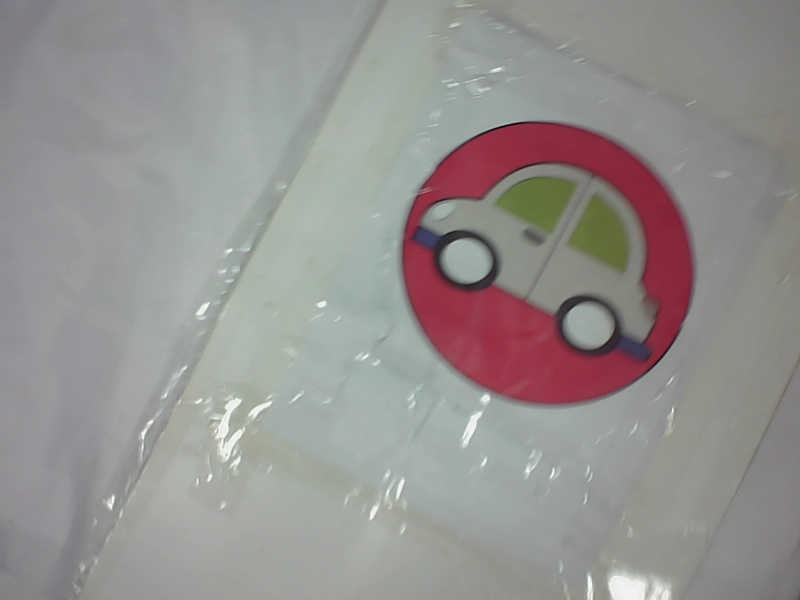areaC: (405, 112, 700, 413)
